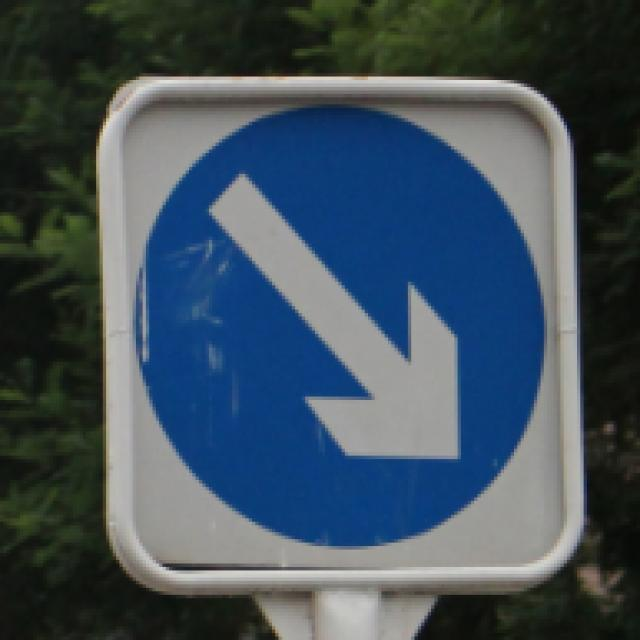Right: (125, 96, 565, 575)
